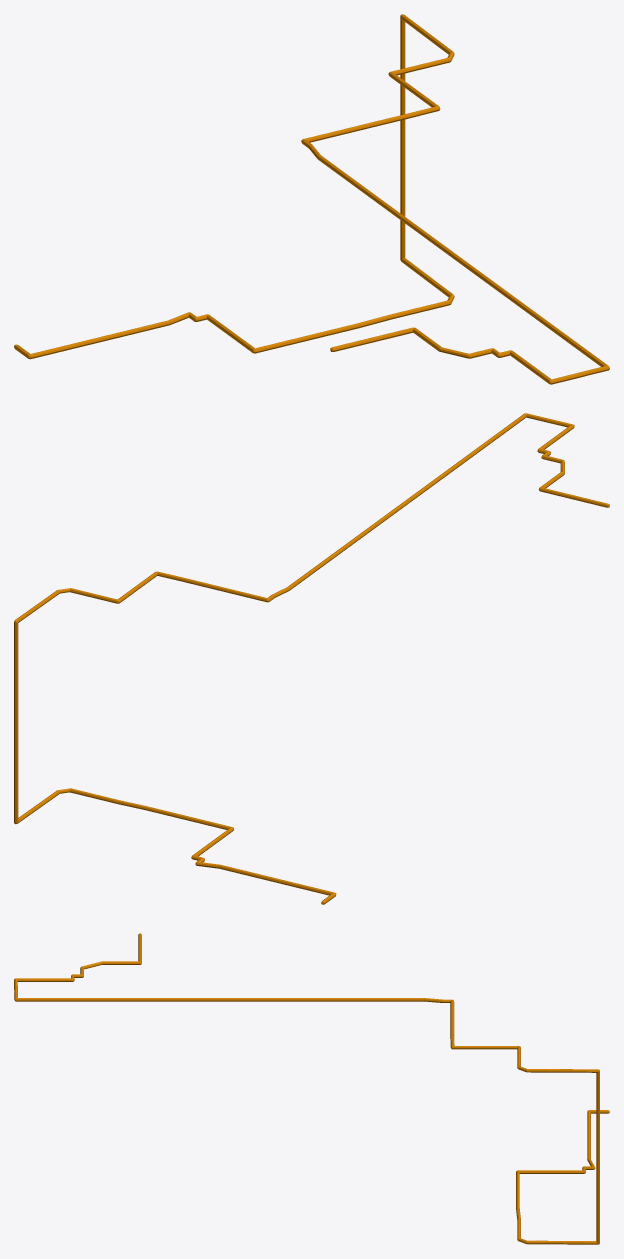
3 renders of one model, top to bottom at view 1: azimuth 30°, elevation 25°; view 2: azimuth 150°, elevation 25°; view 3: azimuth 270°, elevation 25°, orthographic. The views are drawn at different scales.
Size of the model in its own units: 1717 by 1020 by 3144.
